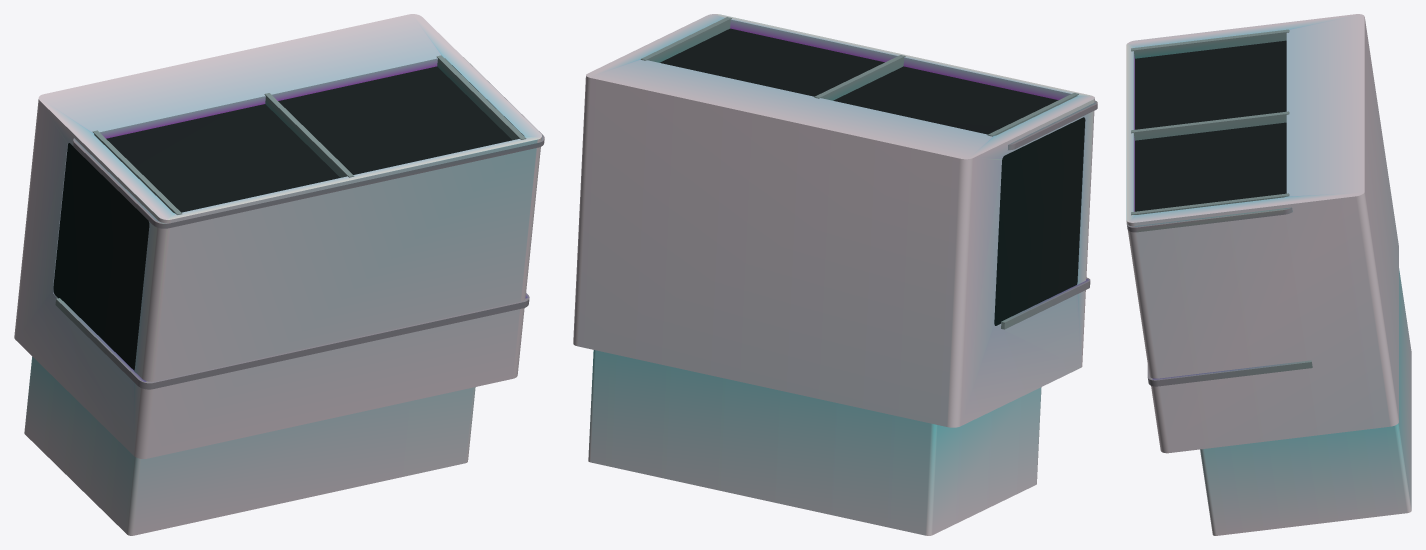
The picture shows the model from 3 angles, left to right: view 1: azimuth 30°, elevation 25°; view 2: azimuth 150°, elevation 25°; view 3: azimuth 270°, elevation 25°; orthographic projection. The views are drawn at different scales.
Visible parts, largest first — view 1: housing, pedestal, tray_floor, dark_panel, ledge, top_rim, cross_rib.002, cross_rib.003, cross_rib.001; view 2: housing, pedestal, tray_floor, dark_panel, cross_rib.003, cross_rib.002, ledge, top_rim; view 3: housing, tray_floor, pedestal, cross_rib.001, cross_rib.002, ledge, top_rim, cross_rib.003.
Part boxes in pixels (<box>): housing: <box>14,14,541,458</box>; pedestal: <box>24,356,475,535</box>; tray_floor: <box>106,66,511,212</box>; dark_panel: <box>53,143,149,370</box>; ledge: <box>55,293,529,389</box>; top_rim: <box>73,57,544,228</box>; cross_rib.002: <box>264,93,354,177</box>; cross_rib.003: <box>436,55,526,140</box>; cross_rib.001: <box>92,130,182,214</box>; housing: <box>573,14,1094,427</box>; pedestal: <box>588,350,1041,535</box>; tray_floor: <box>660,28,1058,134</box>; dark_panel: <box>994,117,1085,325</box>; cross_rib.003: <box>640,17,731,62</box>; cross_rib.002: <box>814,55,905,100</box>; ledge: <box>1001,277,1090,329</box>; top_rim: <box>1008,100,1097,150</box>; housing: <box>1126,14,1398,453</box>; tray_floor: <box>1135,40,1286,211</box>; pedestal: <box>1200,268,1411,535</box>; cross_rib.001: <box>1131,29,1289,58</box>; cross_rib.002: <box>1131,111,1289,140</box>; ledge: <box>1147,360,1312,386</box>; top_rim: <box>1126,207,1292,232</box>; cross_rib.003: <box>1131,193,1289,215</box>.
Bounding box in the file's own units: 1.12 × 1.07 × 0.759.
